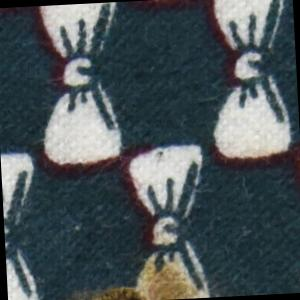Damage: (93, 285, 148, 300)
Oil Stain: (53, 253, 208, 300)
